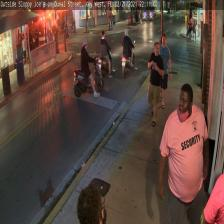person: (158, 83, 209, 224), (147, 40, 164, 125), (156, 34, 172, 108)
